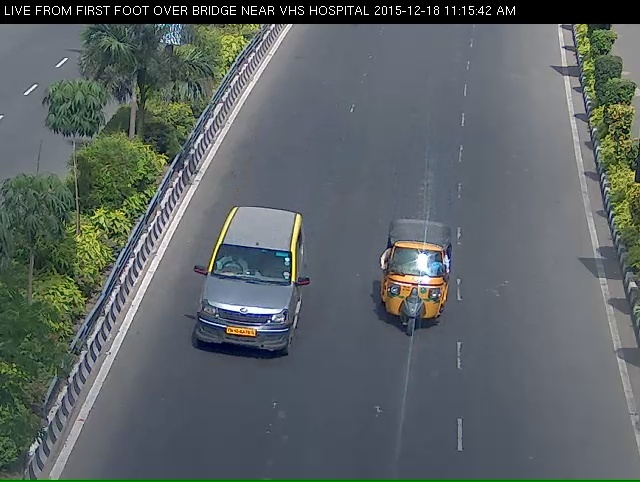Car: (183, 230, 290, 407), (375, 231, 456, 360)
